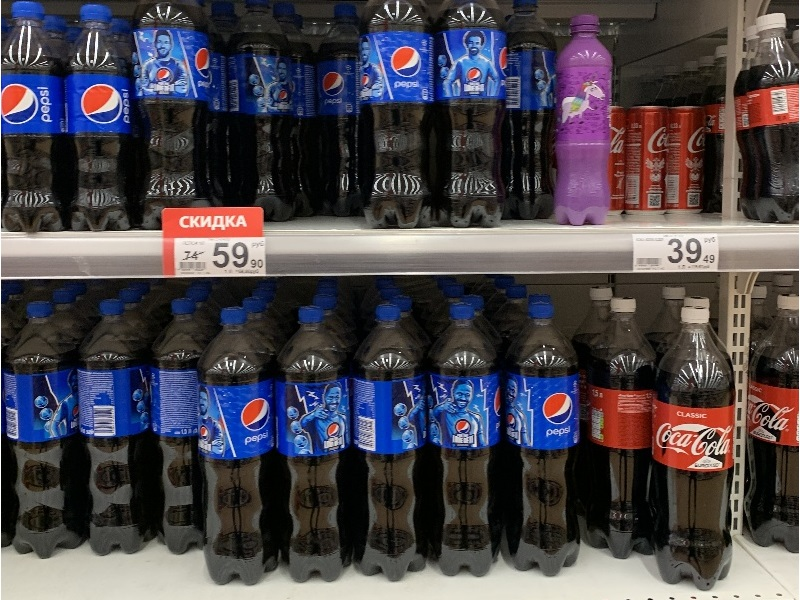lemonade: (185, 305, 287, 591), (651, 305, 744, 598), (265, 304, 357, 595), (498, 300, 592, 582), (349, 302, 434, 590), (426, 303, 509, 588), (4, 298, 90, 564), (72, 299, 155, 571), (358, 1, 449, 235), (59, 4, 148, 242), (429, 1, 514, 232), (1, 5, 73, 240)
